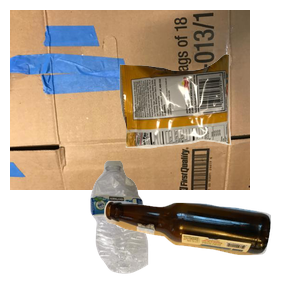cardboard: (10, 10, 250, 190)
glass: (101, 198, 300, 300)
plastic: (88, 158, 229, 300)
trash: (117, 52, 300, 193)
